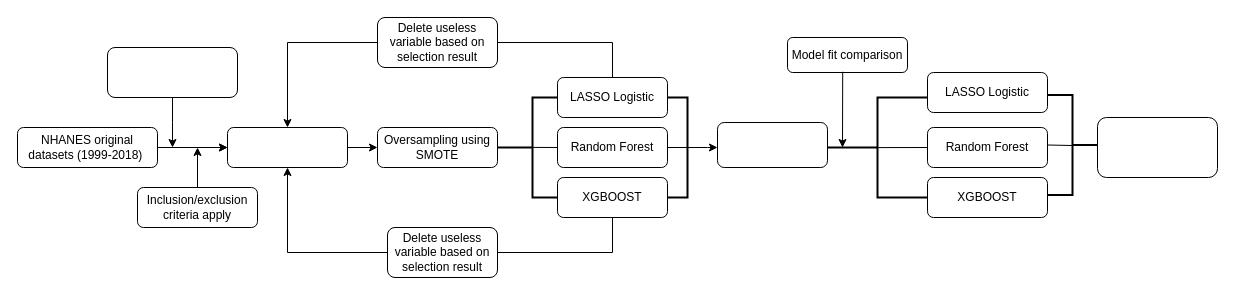
This 1235x295 diagram has some shape labels left out. Here are the shapes that lost their labels. From the top down, the centre of each, then its label:
[172,72]: Basic data merge and cleaning
[287,147]: Dataset used for analysis
[772,145]: Selection Results
[1157,147]: Model Evaluation
